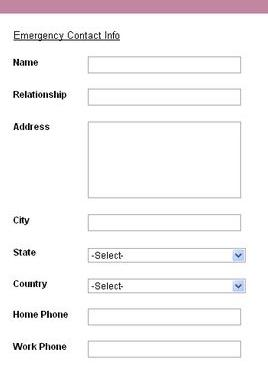field: (85, 121, 242, 199), (85, 88, 242, 107), (86, 212, 243, 231), (85, 339, 242, 358), (86, 55, 242, 74), (84, 307, 241, 325), (86, 248, 247, 263), (87, 278, 247, 293)
field_with_label: (10, 120, 244, 201), (12, 337, 245, 360), (13, 210, 245, 233), (11, 87, 244, 109), (10, 54, 244, 75), (11, 306, 242, 327), (12, 277, 248, 295), (15, 246, 248, 264)
